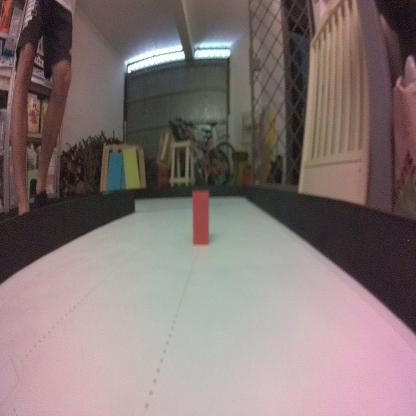red: (190, 187, 211, 250)
